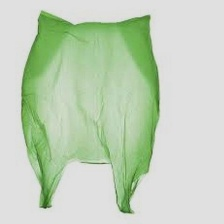plastic_bag: (16, 8, 162, 216)
